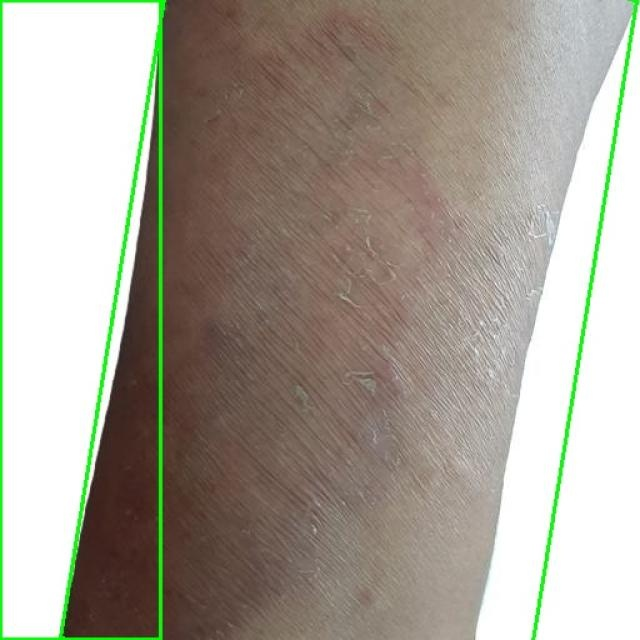Tinea Corporis: (61, 0, 637, 640), (0, 0, 160, 639)
